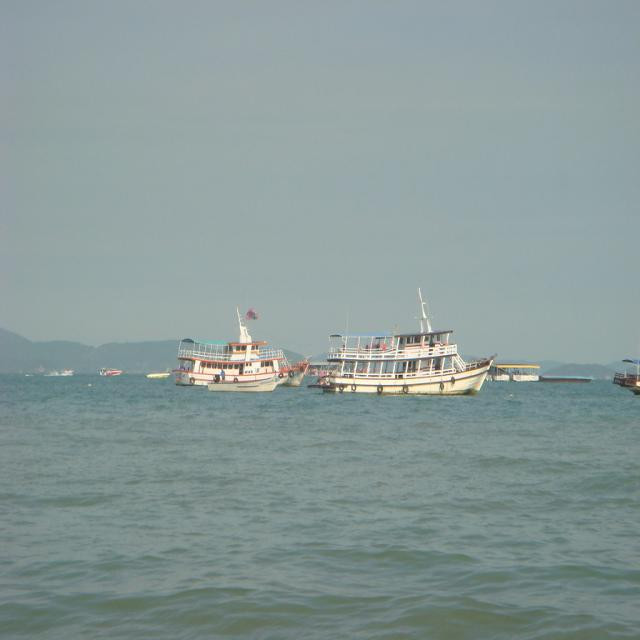houseboat: (310, 286, 500, 399), (166, 304, 301, 391)
